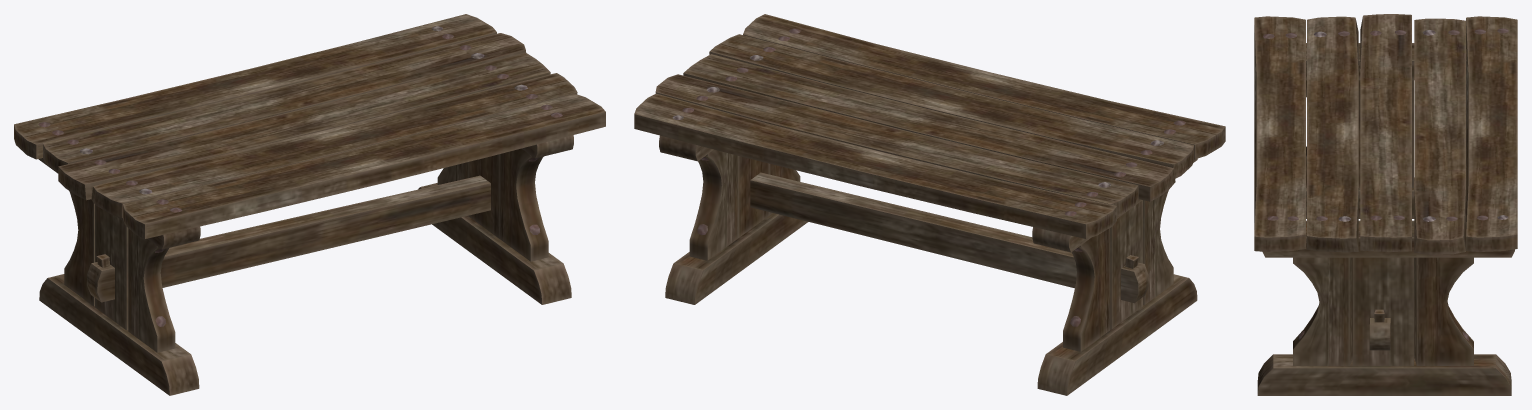
File: table_medium.glb
The picture shows the model from 3 angles, left to right: view 1: azimuth 30°, elevation 25°; view 2: azimuth 150°, elevation 25°; view 3: azimuth 270°, elevation 25°; orthographic projection. The views are drawn at different scales.
Parts seen in each view (by area): view 1: global_props_roughwood_table_01_a; view 2: global_props_roughwood_table_01_a; view 3: global_props_roughwood_table_01_a.
Part boxes in pixels (<box>): global_props_roughwood_table_01_a: <box>14,14,605,395</box>; global_props_roughwood_table_01_a: <box>634,14,1225,395</box>; global_props_roughwood_table_01_a: <box>1254,14,1517,395</box>.
Bounding box in the file's own units: 2.53 × 0.9245 × 1.25.
1 material, 1 textured.
